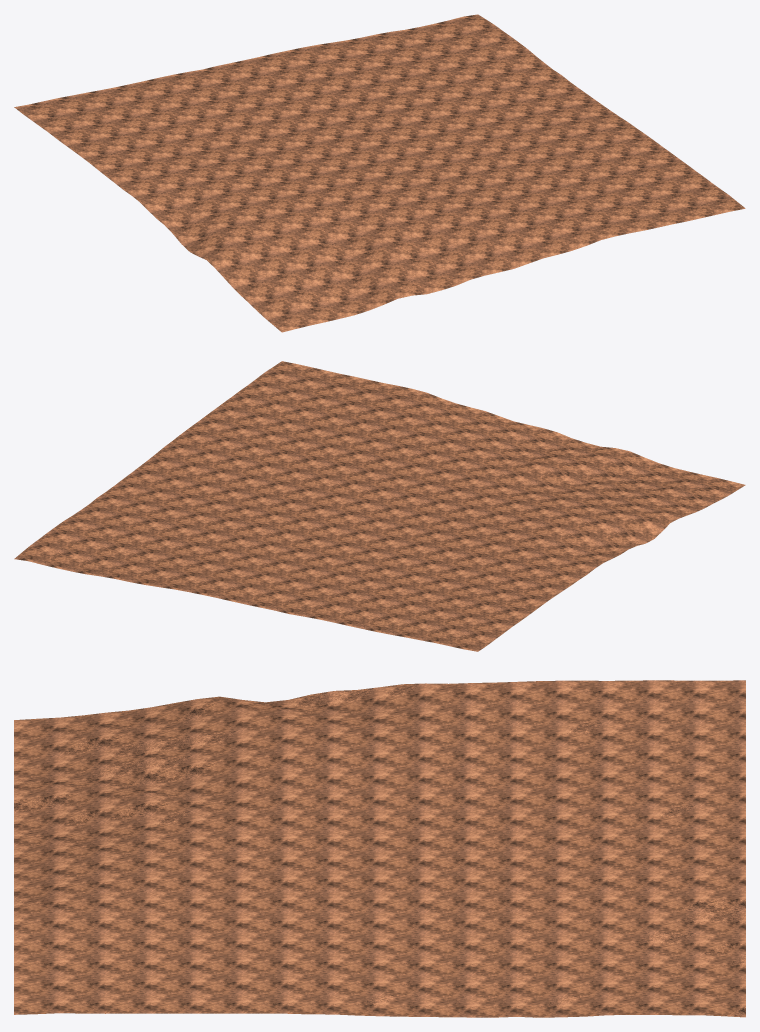
Rendered from terrain_08_15.dae.
3 renders of one model, top to bottom at view 1: azimuth 30°, elevation 25°; view 2: azimuth 150°, elevation 25°; view 3: azimuth 270°, elevation 25°, orthographic. The views are drawn at different scales.
Visible parts, largest first — view 1: terrain_08_15-node; view 2: terrain_08_15-node; view 3: terrain_08_15-node.
Boxes of the visible parts, x1,y1,x2,y2 form: terrain_08_15-node: (14, 14, 745, 332); terrain_08_15-node: (14, 361, 745, 651); terrain_08_15-node: (14, 680, 745, 1017).
Bounding box in the file's own units: 128 × 128 × 7.83.
1 material, 1 textured.
